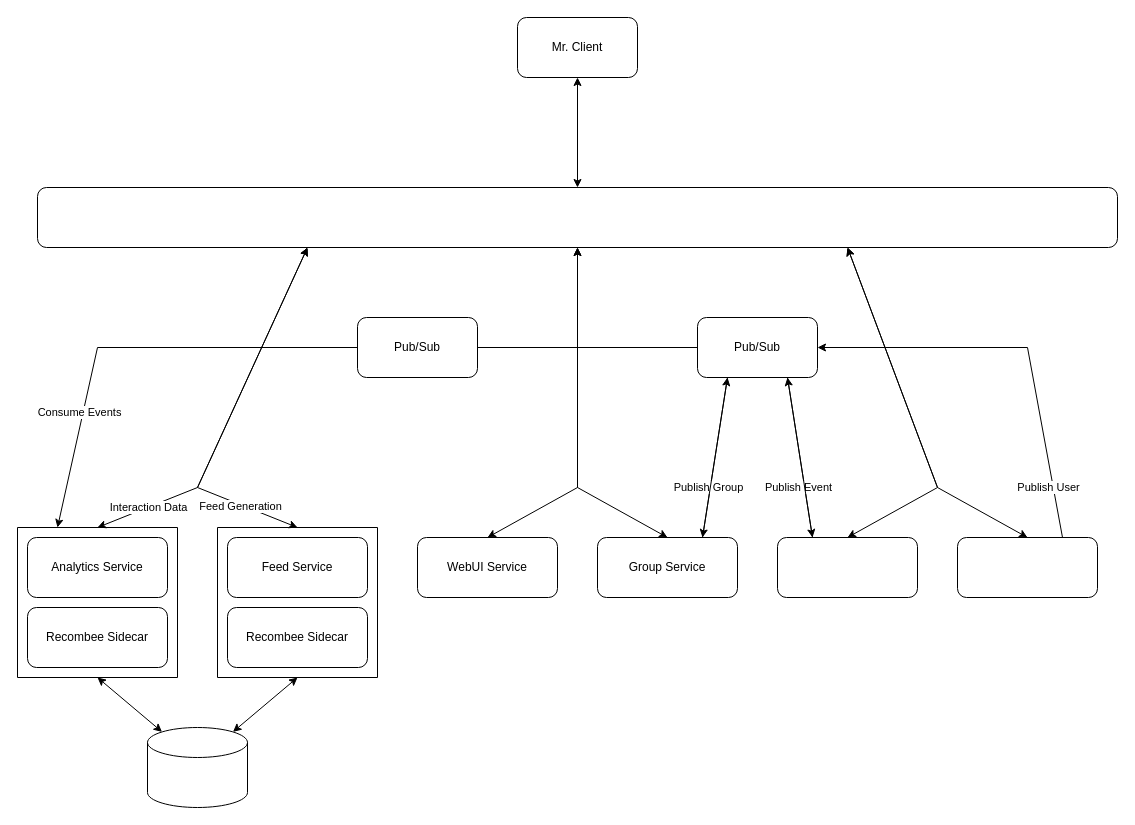
Image size: 1135x825. Some labels were removed from this diagram. The centre of each missing label's shape, as x and y in pixels:
API Gateway: (577,217)
Event Service: (847,567)
Recombee API: (197,767)
User Service: (1027,567)
